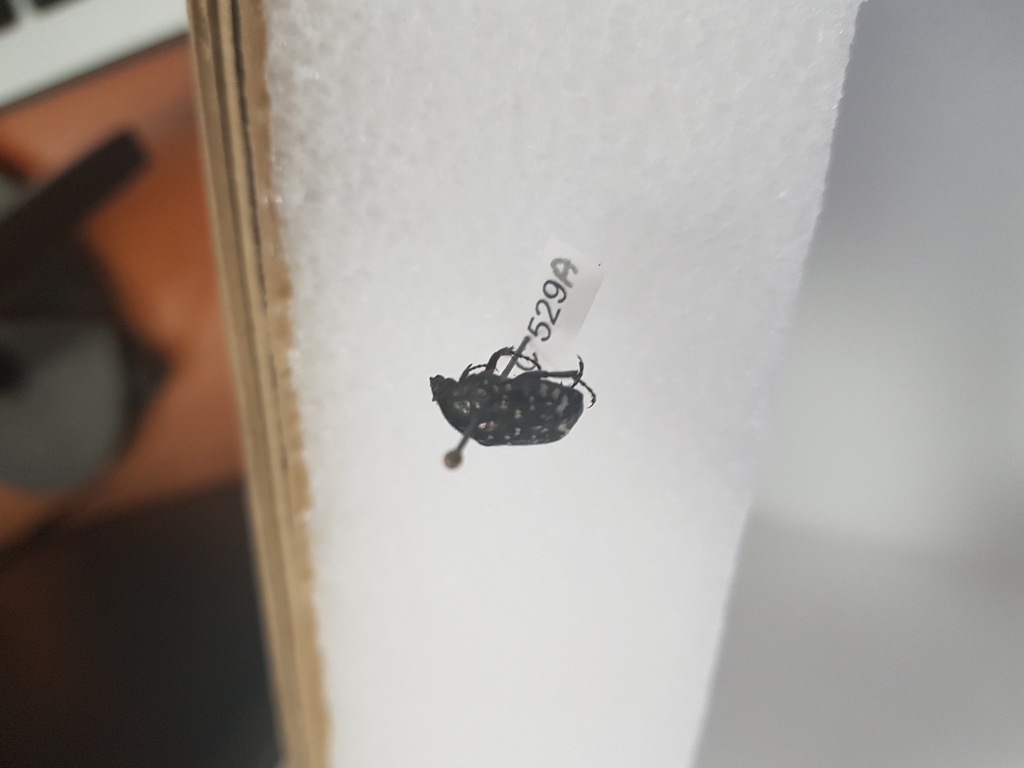Oxythyrea_funesta: (421, 345, 601, 453)
